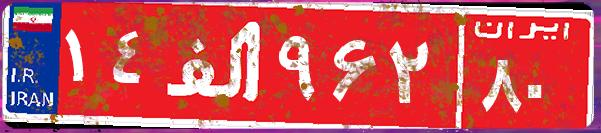0: (525, 38, 570, 115)
1: (57, 26, 110, 107)
2: (385, 28, 445, 110)
4: (110, 28, 158, 105)
6: (330, 28, 385, 110)
8: (475, 38, 525, 113)
9: (273, 28, 330, 110)
الف: (158, 15, 273, 115)
